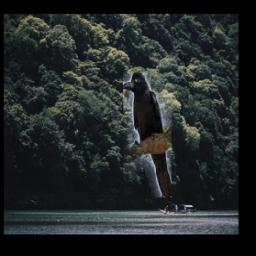Crow: (124, 72, 173, 197)
